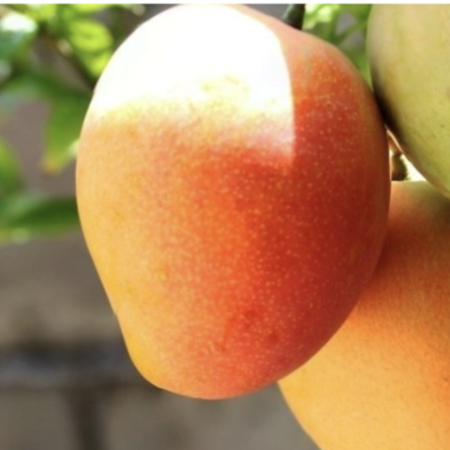mango: (47, 2, 435, 439)
